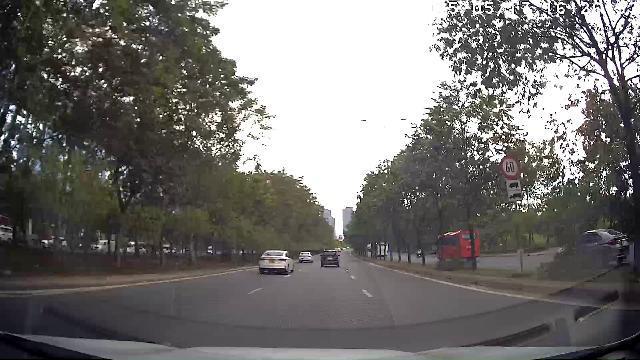127-toc-do-toi-da-60: (500, 155, 521, 179)
